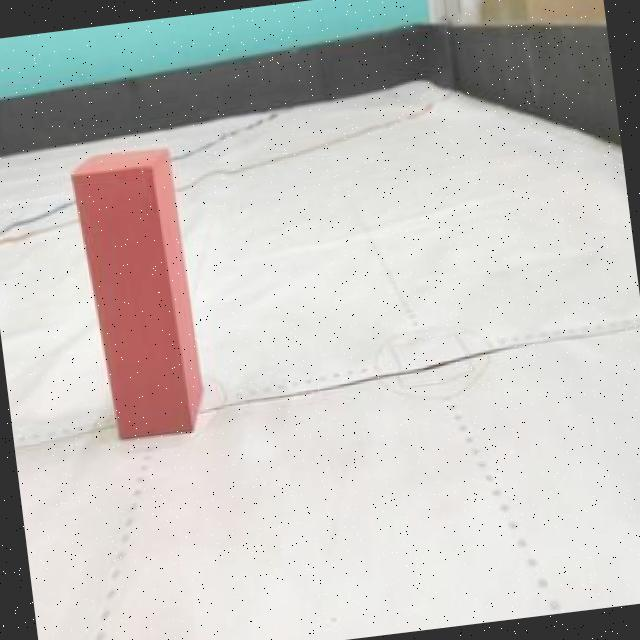redbox: (66, 147, 208, 440)
